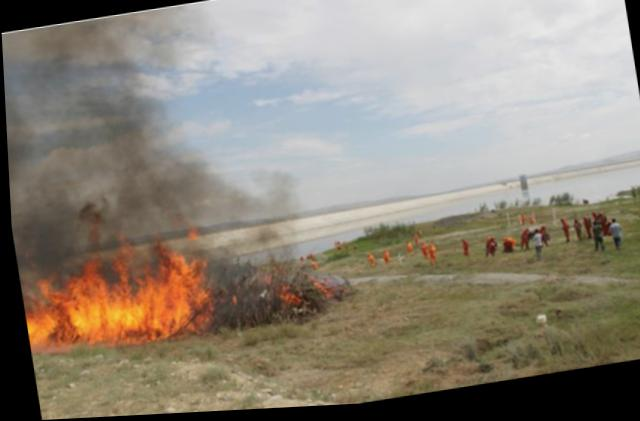fire: (14, 226, 221, 359), (261, 275, 299, 311), (308, 279, 332, 306)
